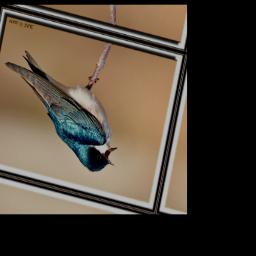Swallow: (0, 44, 134, 180)
